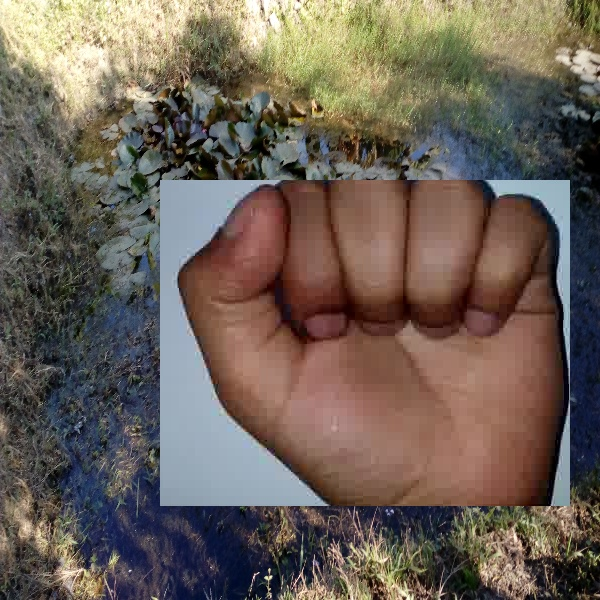A: (160, 180, 570, 506)
